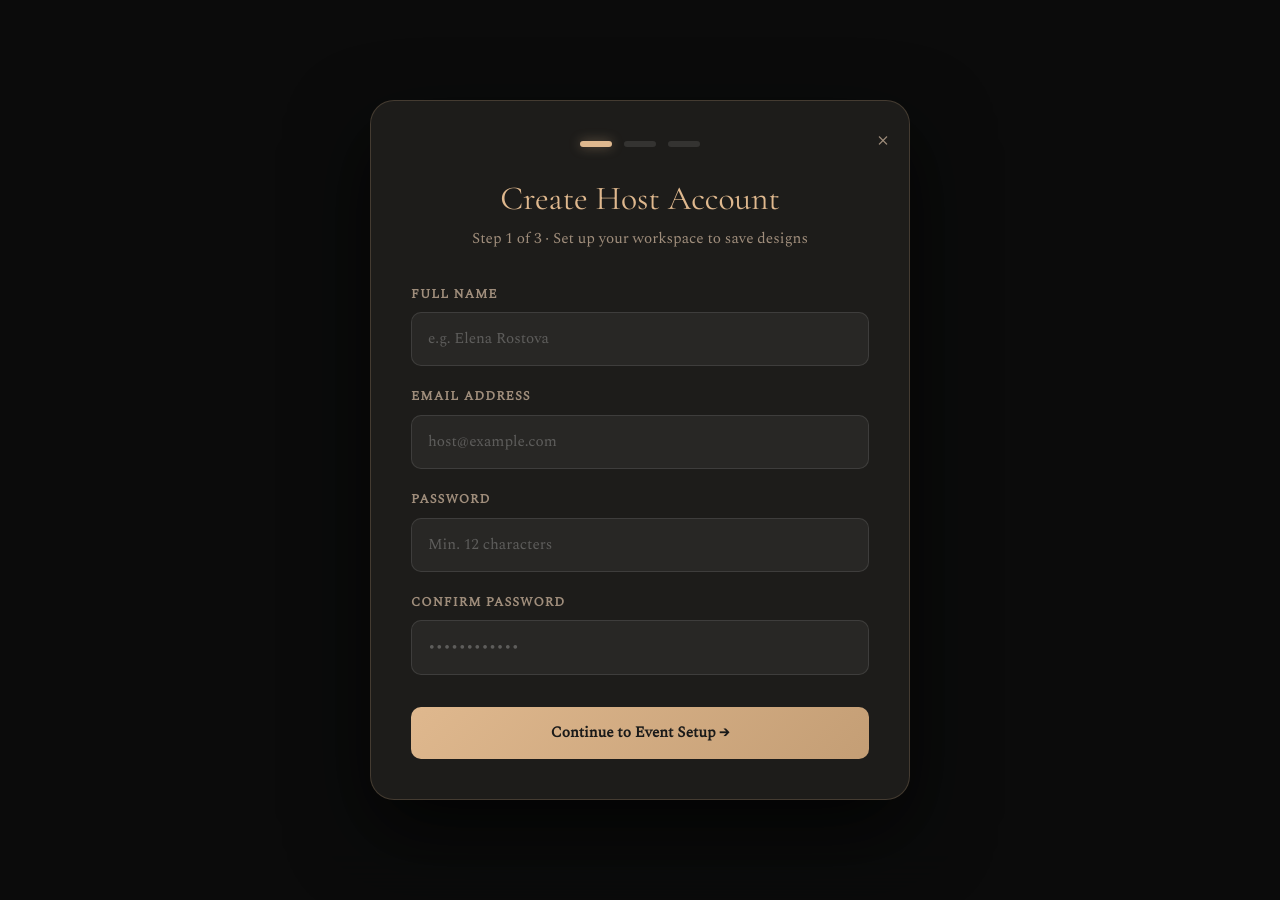
Scenario: OnboardingWizard › validates password length and matching passwords in Step 1
Type "test@example.com" into the field labelled "Email Address" at {"x": 640, "y": 442}, box [411,415,869,469]
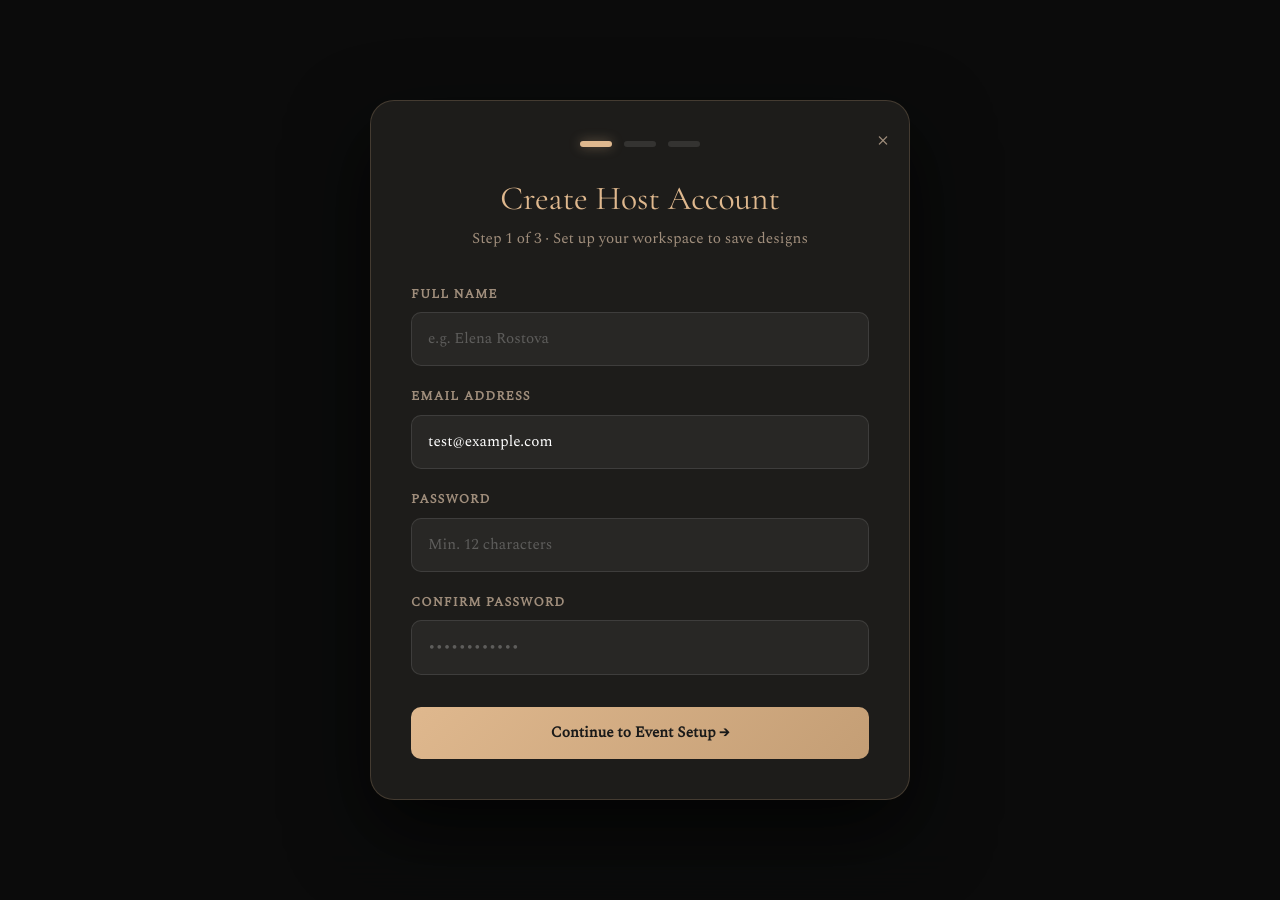
Type "short" into the password field labelled "Password" at {"x": 640, "y": 545}, box [411,518,869,572]
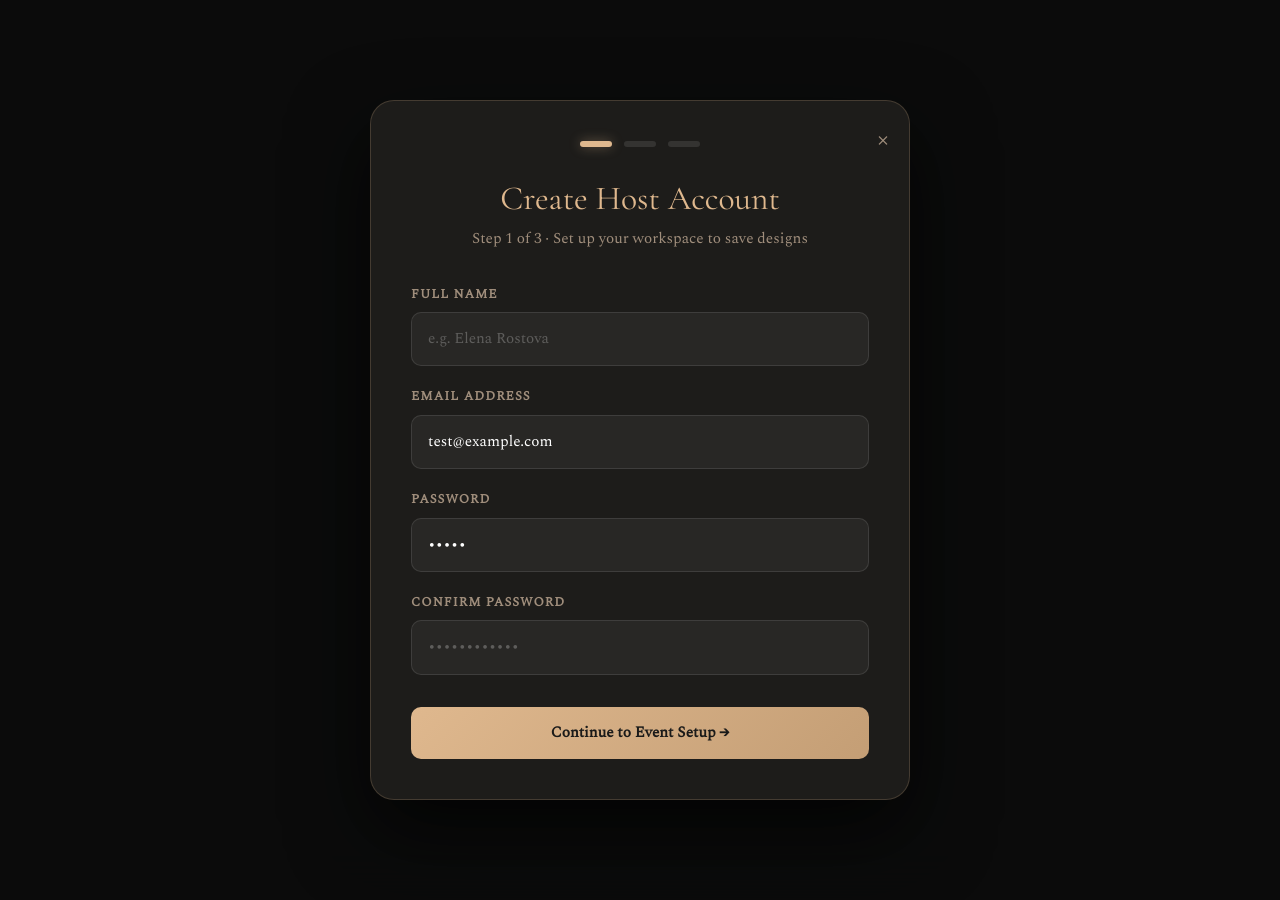
Type "short" into the password field labelled "Confirm Password" at {"x": 640, "y": 648}, box [411,620,869,675]
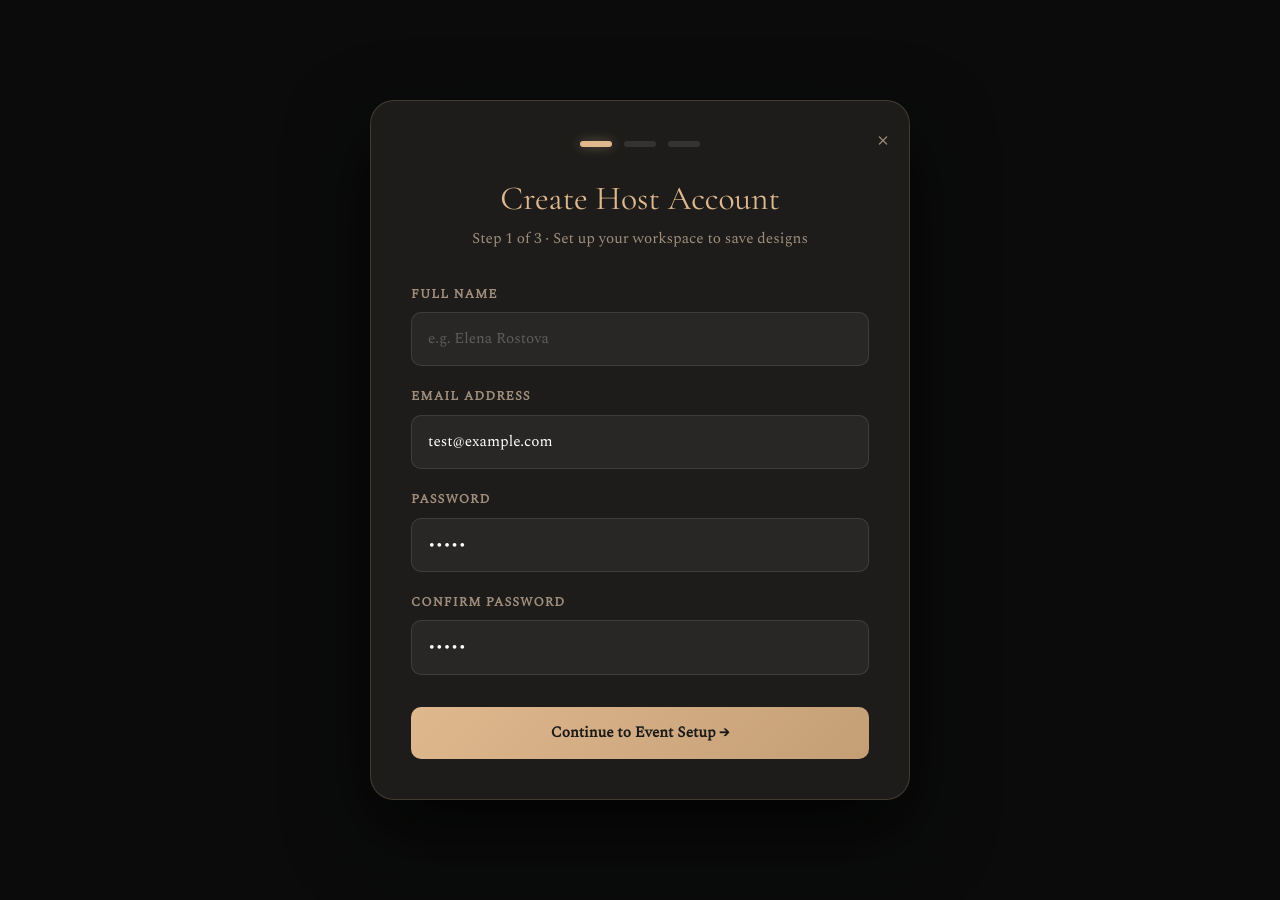
Click the button "Continue to Event Setup →" at {"x": 640, "y": 733}, box [411,707,869,759]
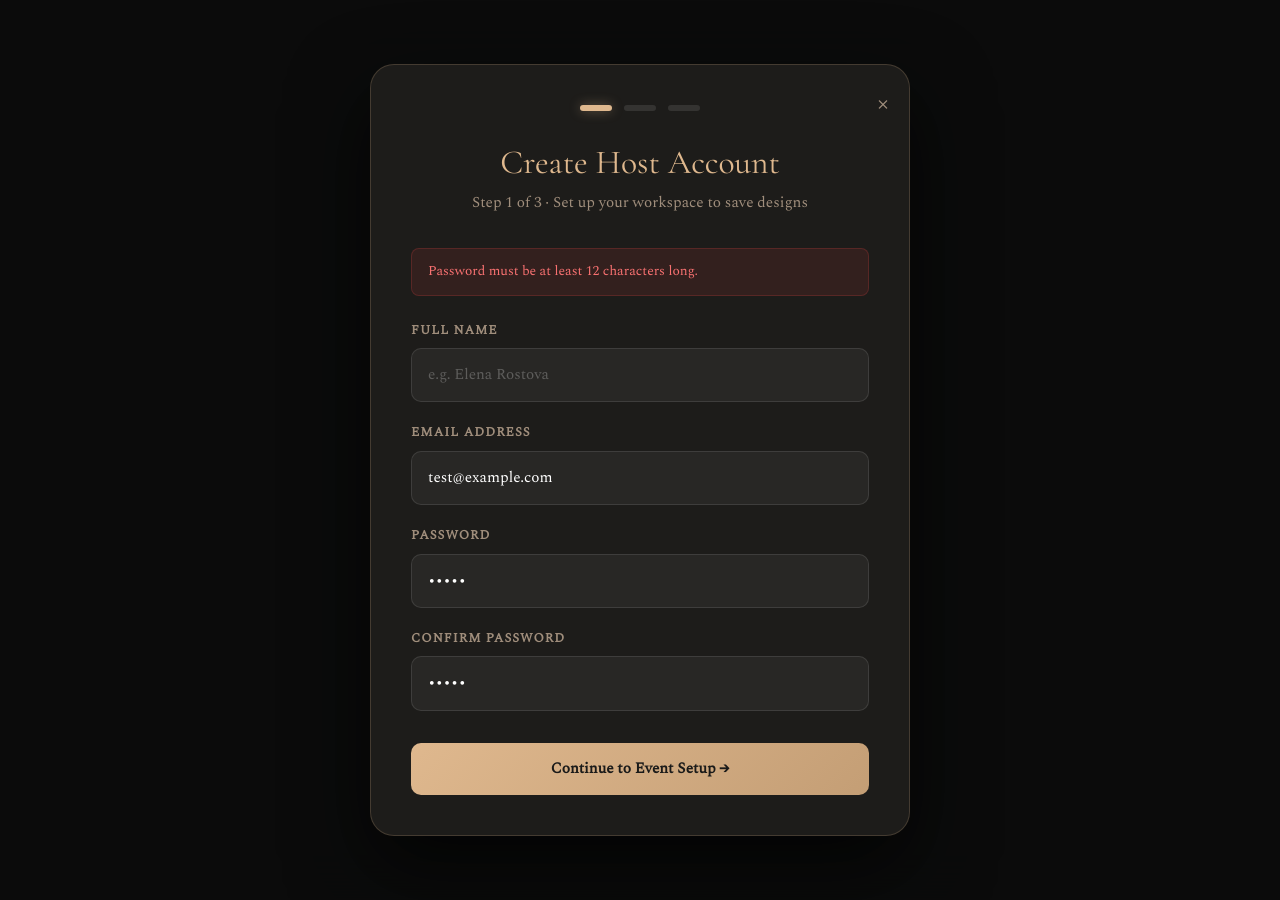
Result: the text "Password must be at least 12 characters long." is shown at [411,248,869,296]
